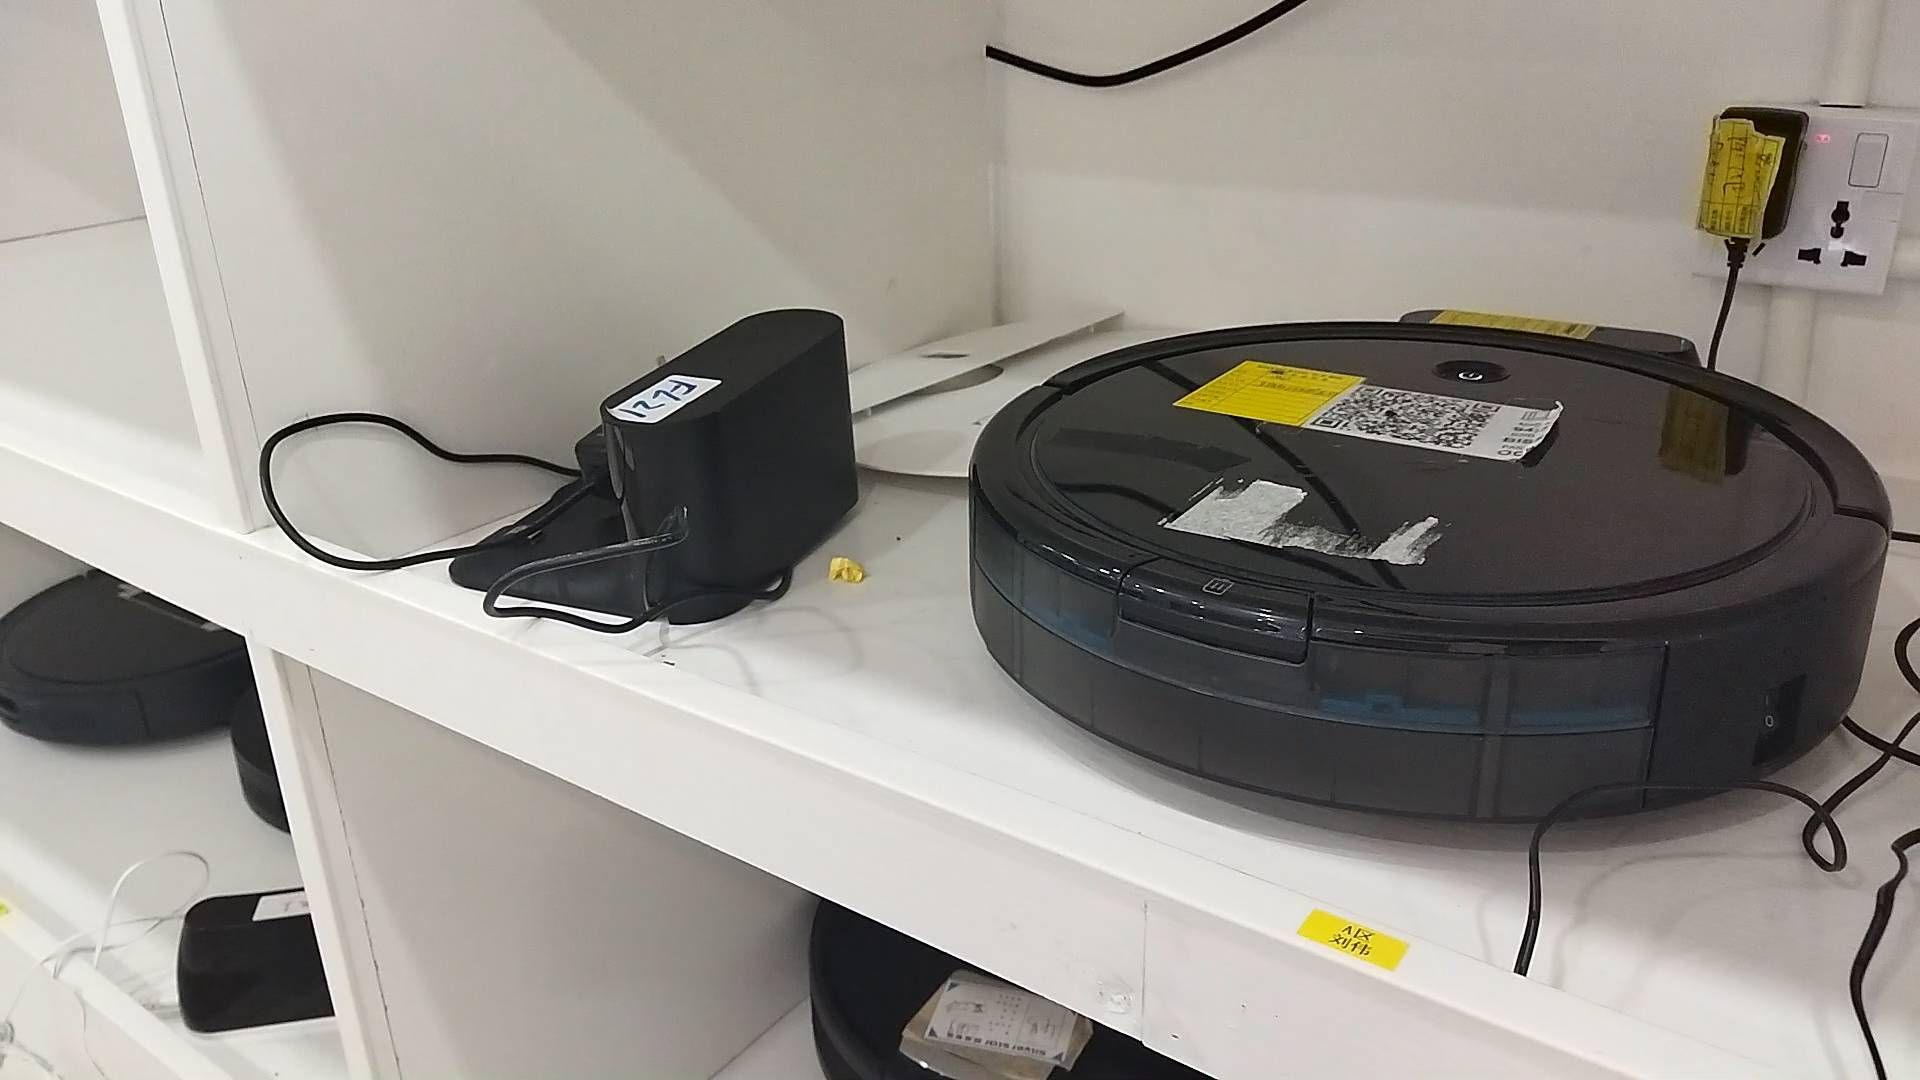recharge seat: (448, 307, 858, 618)
